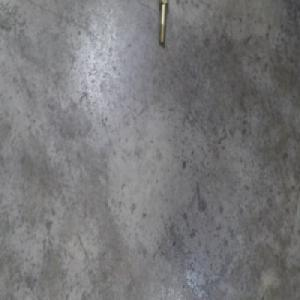Bolt: (156, 2, 169, 49)
